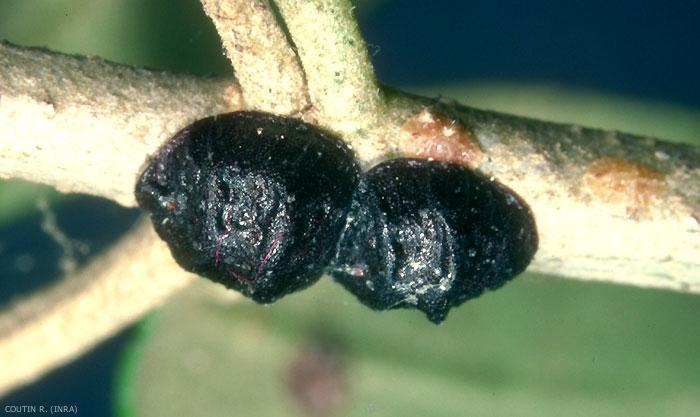BlackScale: (131, 110, 542, 326)
